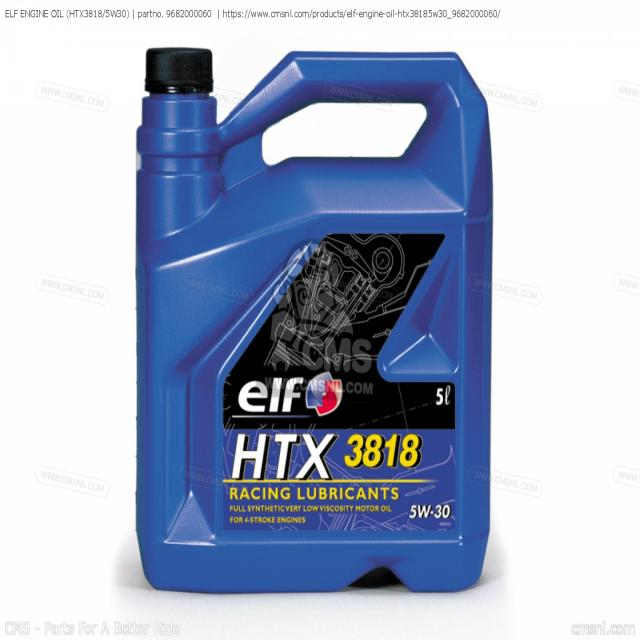motor_oil: (131, 37, 500, 599)
